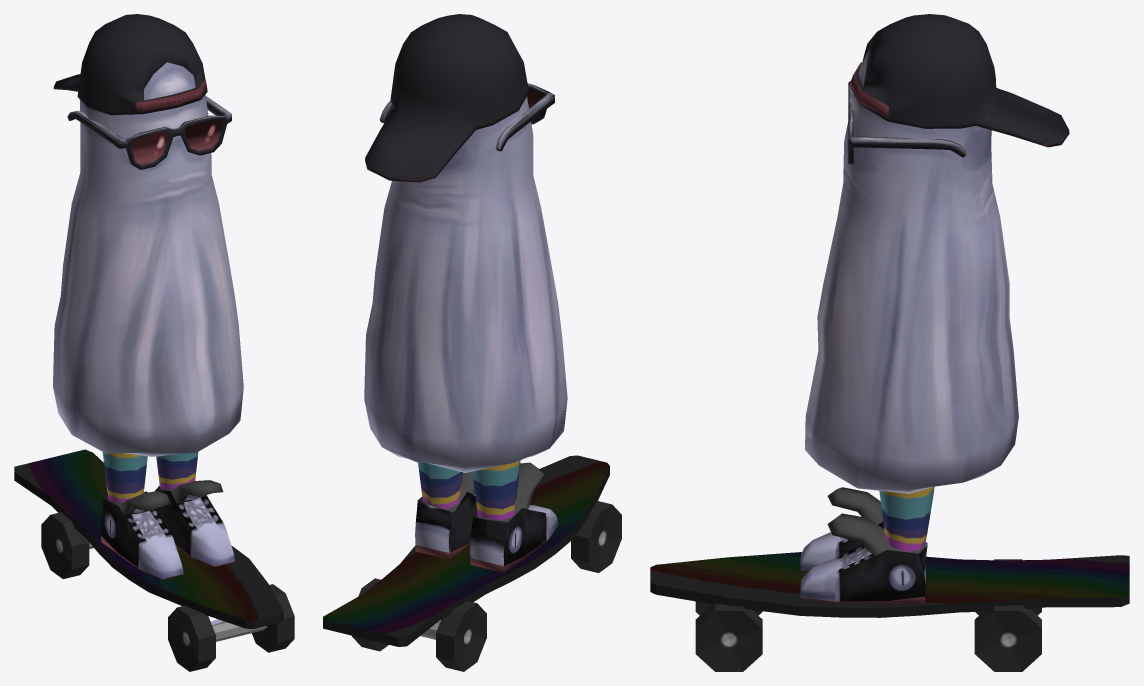
Rendered from YungGhost.fbx.
3 renders of one model, left to right at view 1: azimuth 30°, elevation 25°; view 2: azimuth 150°, elevation 25°; view 3: azimuth 270°, elevation 25°, orthographic. The views are drawn at different scales.
Parts seen in each view (by area): view 1: YungGhost; view 2: YungGhost; view 3: YungGhost.
Boxes of the visible parts, box(x1,y1,x2,y2) form: YungGhost: box(14, 14, 294, 671); YungGhost: box(323, 14, 621, 671); YungGhost: box(650, 14, 1129, 671).
Bounding box in the file's own units: 51.83 × 171 × 119.
